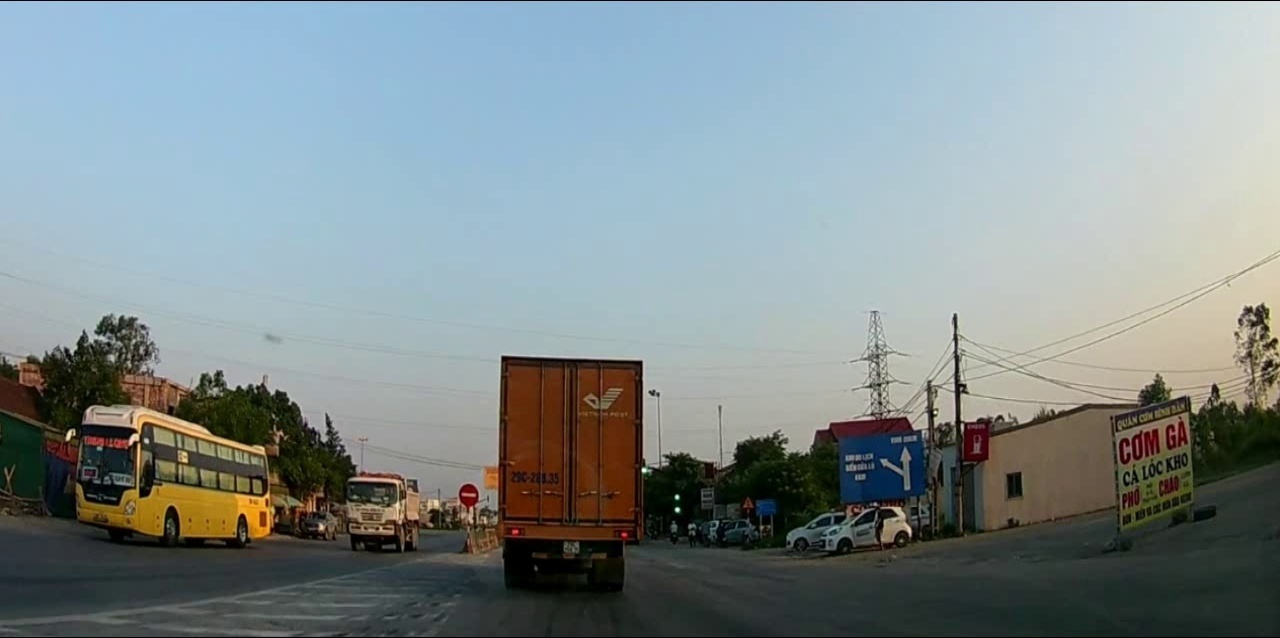Bien khac: (836, 432, 928, 500), (742, 495, 754, 509)
Cam di nguoc chieu: (457, 482, 480, 507)
